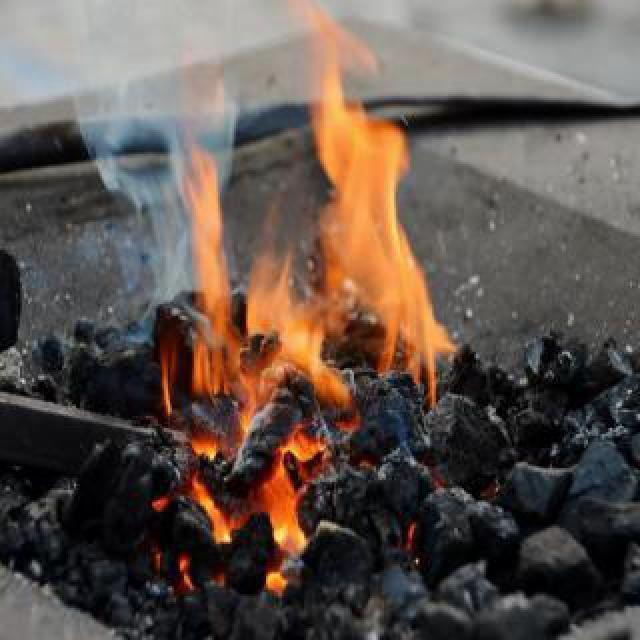Fire: (154, 54, 468, 590)
Smoke: (34, 6, 240, 291)
